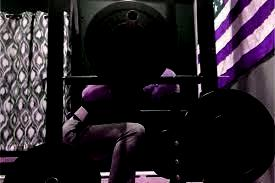Barbell: (126, 9, 140, 23)
